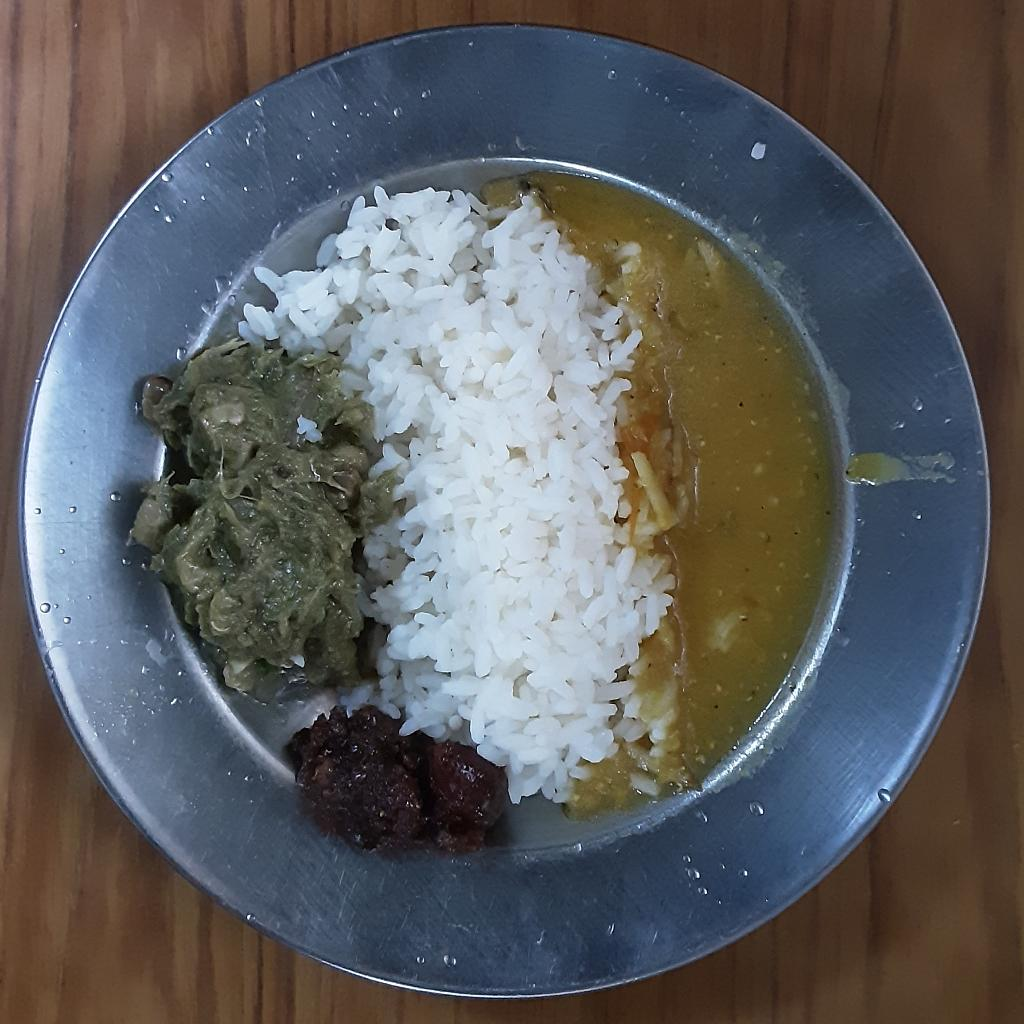achar: (296, 704, 512, 858)
daal: (476, 168, 840, 811)
rice: (233, 179, 675, 811)
shak: (123, 341, 390, 690)
